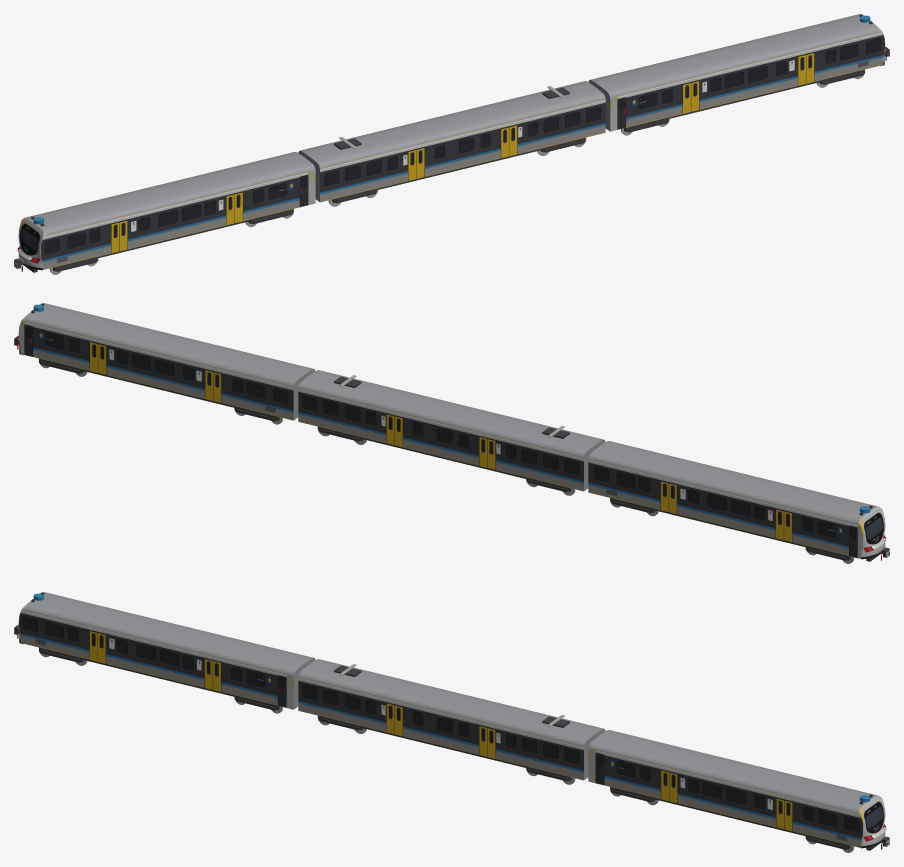
3 renders of one model, top to bottom at view 1: azimuth 30°, elevation 25°; view 2: azimuth 150°, elevation 25°; view 3: azimuth 330°, elevation 25°, orthographic.
Visible parts, largest first — view 1: EN57_pudlo_1, EN57_pudlo_2, EN57_pudlo_3; view 2: EN57_pudlo_1, EN57_pudlo_2, EN57_pudlo_3; view 3: EN57_pudlo_3, EN57_pudlo_2, EN57_pudlo_1.
Boxes of the visible parts, bbox=[...] form: EN57_pudlo_1: bbox=[18, 152, 315, 270]; EN57_pudlo_2: bbox=[298, 81, 605, 202]; EN57_pudlo_3: bbox=[588, 14, 885, 131]; EN57_pudlo_1: bbox=[588, 441, 885, 559]; EN57_pudlo_2: bbox=[298, 370, 605, 491]; EN57_pudlo_3: bbox=[18, 303, 315, 420]; EN57_pudlo_3: bbox=[588, 730, 885, 848]; EN57_pudlo_2: bbox=[298, 659, 605, 780]; EN57_pudlo_1: bbox=[18, 592, 315, 709].
Size of the model in its own units: 66.53 by 4.04 by 2.88.
Materials: 10 (1 with a texture image).
